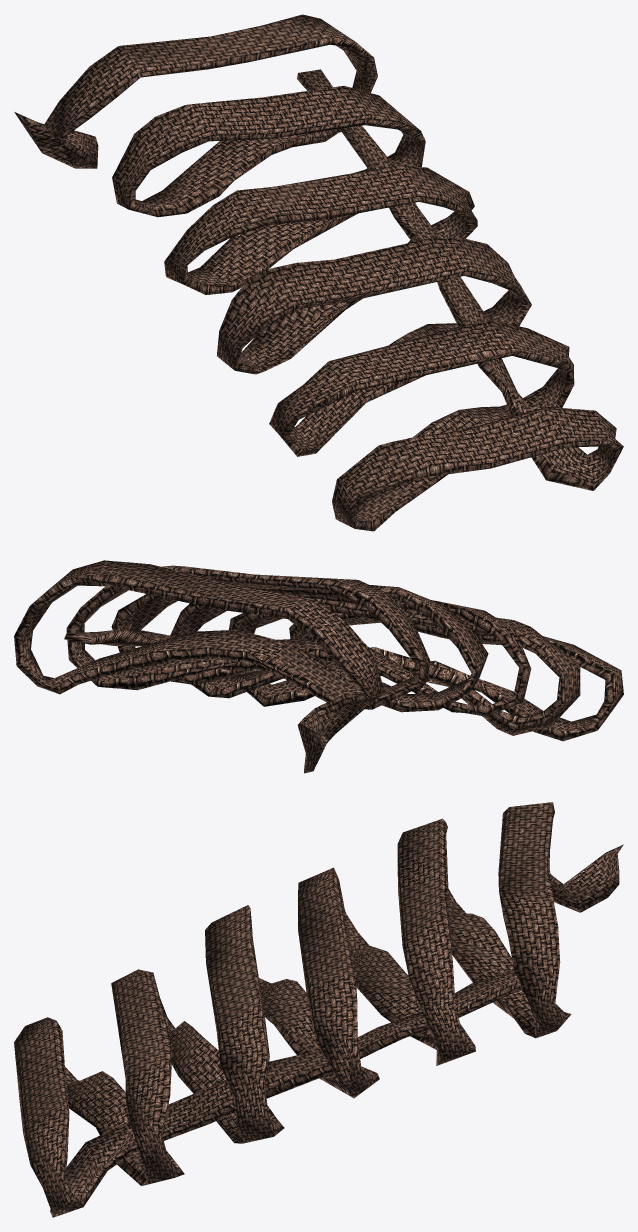
File: ties.obj
3 renders of one model, top to bottom at view 1: azimuth 30°, elevation 25°; view 2: azimuth 150°, elevation 25°; view 3: azimuth 270°, elevation 25°, orthographic. The views are drawn at different scales.
Visible parts, largest first — view 1: tie; view 2: tie; view 3: tie.
Part boxes in pixels (bbox=[...]): tie: bbox=[14, 14, 623, 531]; tie: bbox=[14, 560, 623, 773]; tie: bbox=[14, 802, 623, 1217].
Size of the model in its own units: 1.65 by 1.48 by 2.66.
